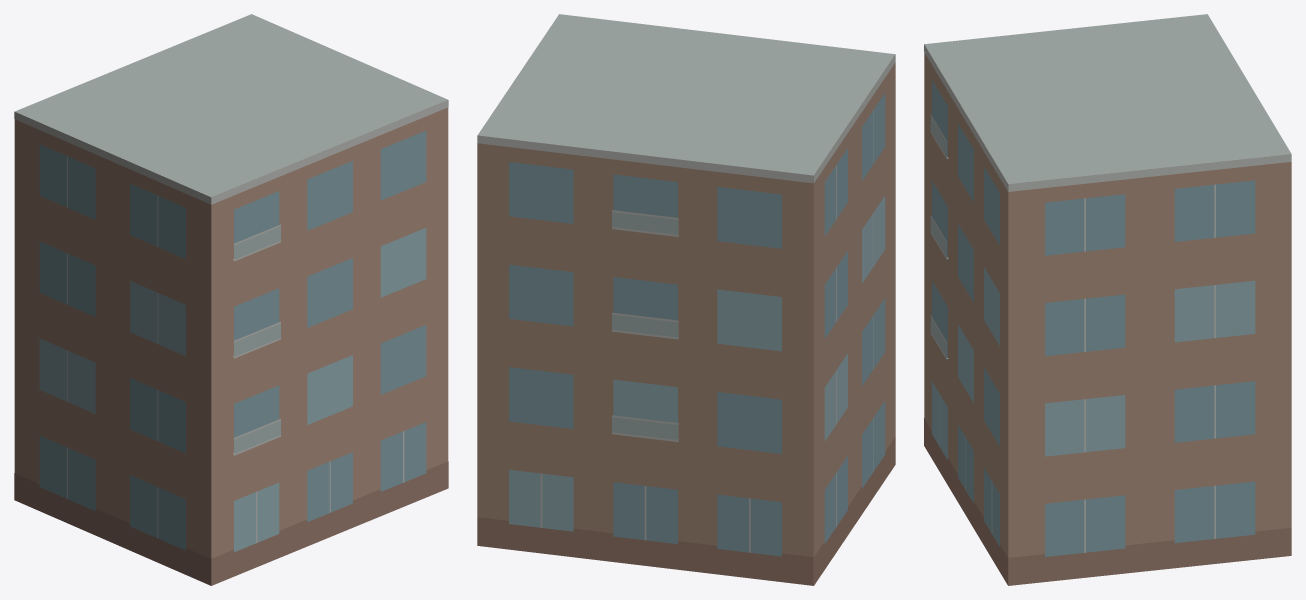
Rendered from survey-upis-32720486.glb.
3 views of the same model, side by side, from view 1: azimuth 30°, elevation 25°; view 2: azimuth 150°, elevation 25°; view 3: azimuth 270°, elevation 25° (orthographic). The views are drawn at different scales.
Visible parts, largest first — view 1: survey-upis-32720486.tmp; view 2: survey-upis-32720486.tmp; view 3: survey-upis-32720486.tmp.
Boxes of the visible parts, left/top/right/bottom form: survey-upis-32720486.tmp: left=14, top=14, right=448, bottom=585; survey-upis-32720486.tmp: left=477, top=14, right=895, bottom=585; survey-upis-32720486.tmp: left=924, top=14, right=1291, bottom=585.
Bounding box in the file's own units: 11.65 × 12.8 × 10.63.
